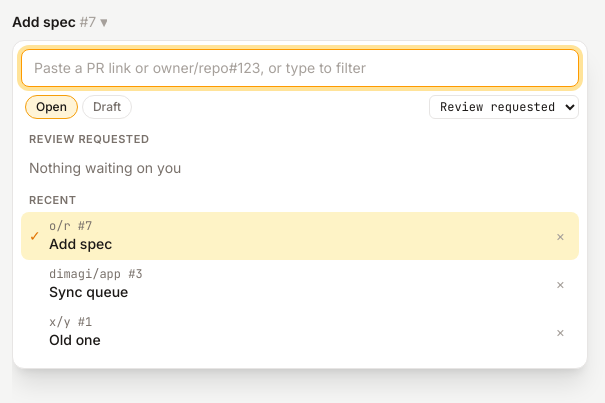
picking the current PR just closes the dropdown
Click the option "✓ o/r #7 Add spec ×" at point(81, 244), box [21, 212, 579, 260]
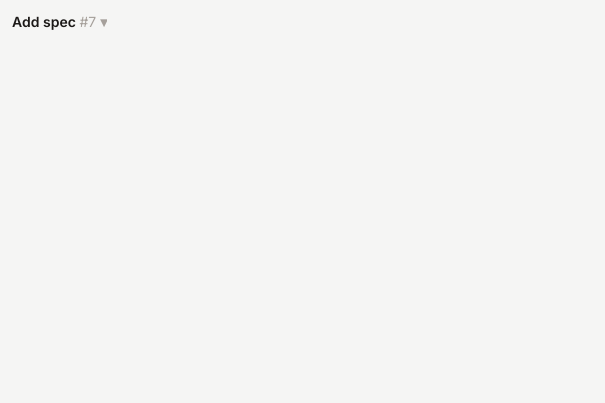
Expected: the list is gone
